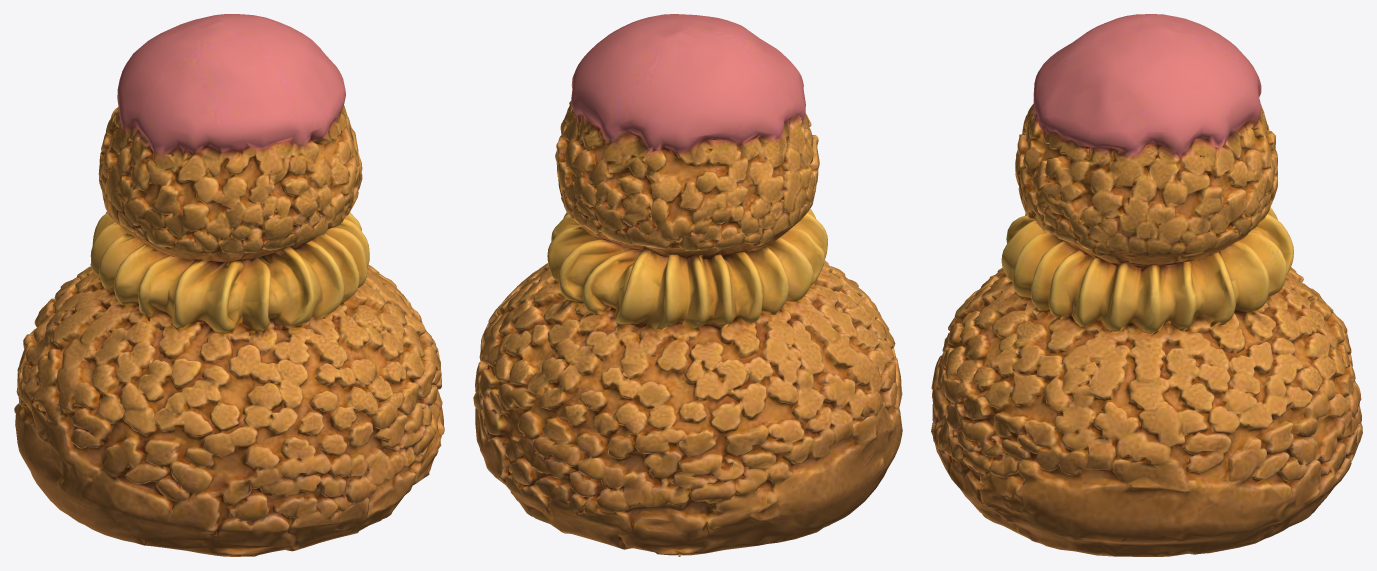
Rendered from cake3.glb.
The picture shows the model from 3 angles, left to right: view 1: azimuth 30°, elevation 25°; view 2: azimuth 150°, elevation 25°; view 3: azimuth 270°, elevation 25°; orthographic projection.
Parts seen in each view (by area): view 1: tripo_node_bc929acc-53c6-4721-be94-bf1da73559d4; view 2: tripo_node_bc929acc-53c6-4721-be94-bf1da73559d4; view 3: tripo_node_bc929acc-53c6-4721-be94-bf1da73559d4.
Part boxes in pixels (box(x1,y1,x2,y2)): tripo_node_bc929acc-53c6-4721-be94-bf1da73559d4: box(14, 14, 444, 556); tripo_node_bc929acc-53c6-4721-be94-bf1da73559d4: box(473, 14, 902, 556); tripo_node_bc929acc-53c6-4721-be94-bf1da73559d4: box(931, 14, 1362, 556).
Bounding box in the file's own units: 0.8425 × 0.9788 × 0.841.
1 material, 1 textured.
